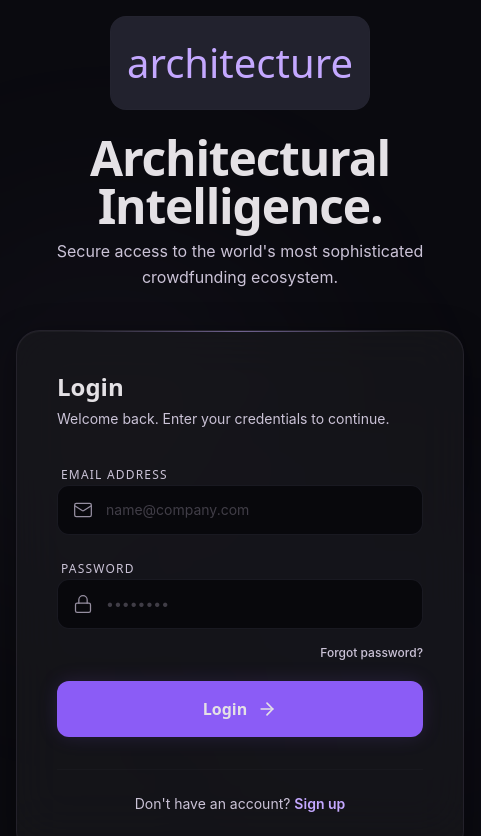
Test case: LoginPage › shows error message on failed login
This screenshot has width=481, height=836.
In the field labelled "Email Address": (240, 510) x1=57 y1=485 x2=423 y2=535, type "test@example.com"
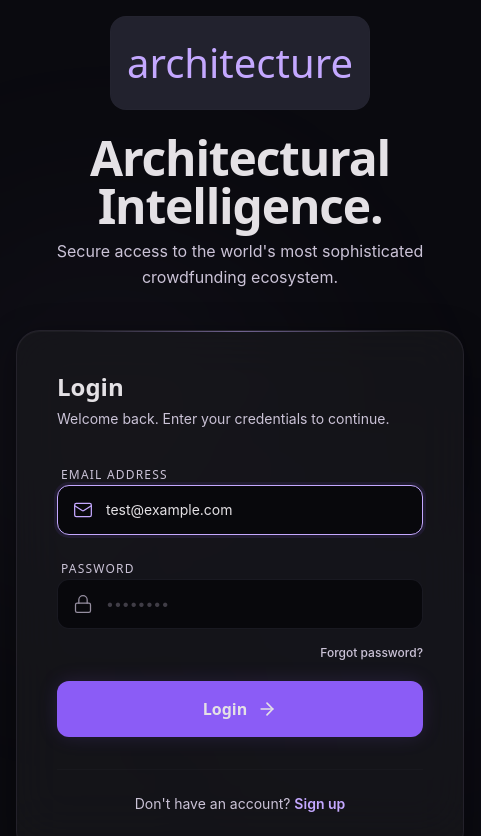
In the password field labelled "Password": (240, 604) x1=57 y1=579 x2=423 y2=629, type "wrongpassword"
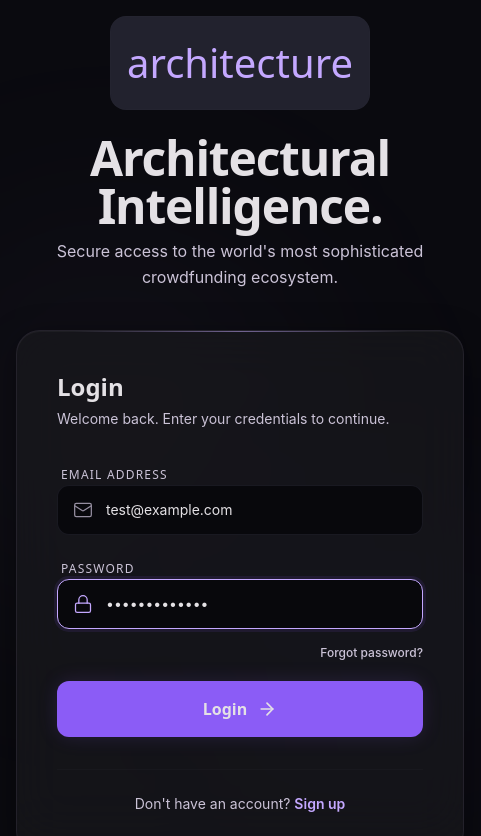
Click the button "Login": (240, 709) x1=57 y1=681 x2=423 y2=737
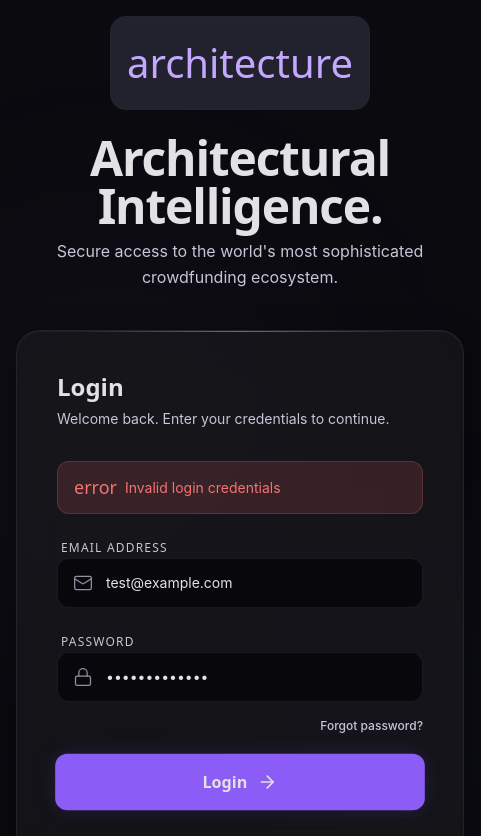
Check: the text "Invalid login credentials" is shown, box x1=125 y1=478 x2=281 y2=498
